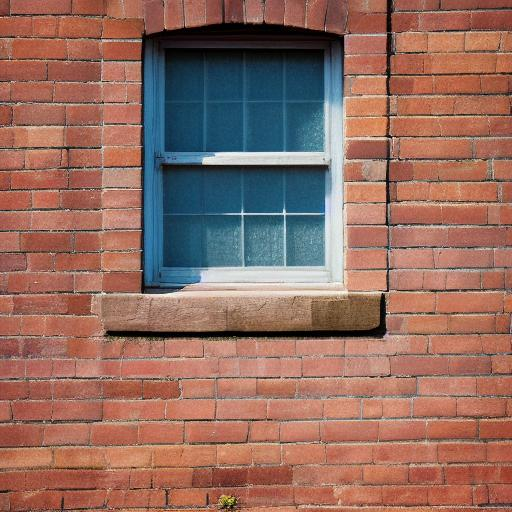Window: (102, 0, 391, 337)
